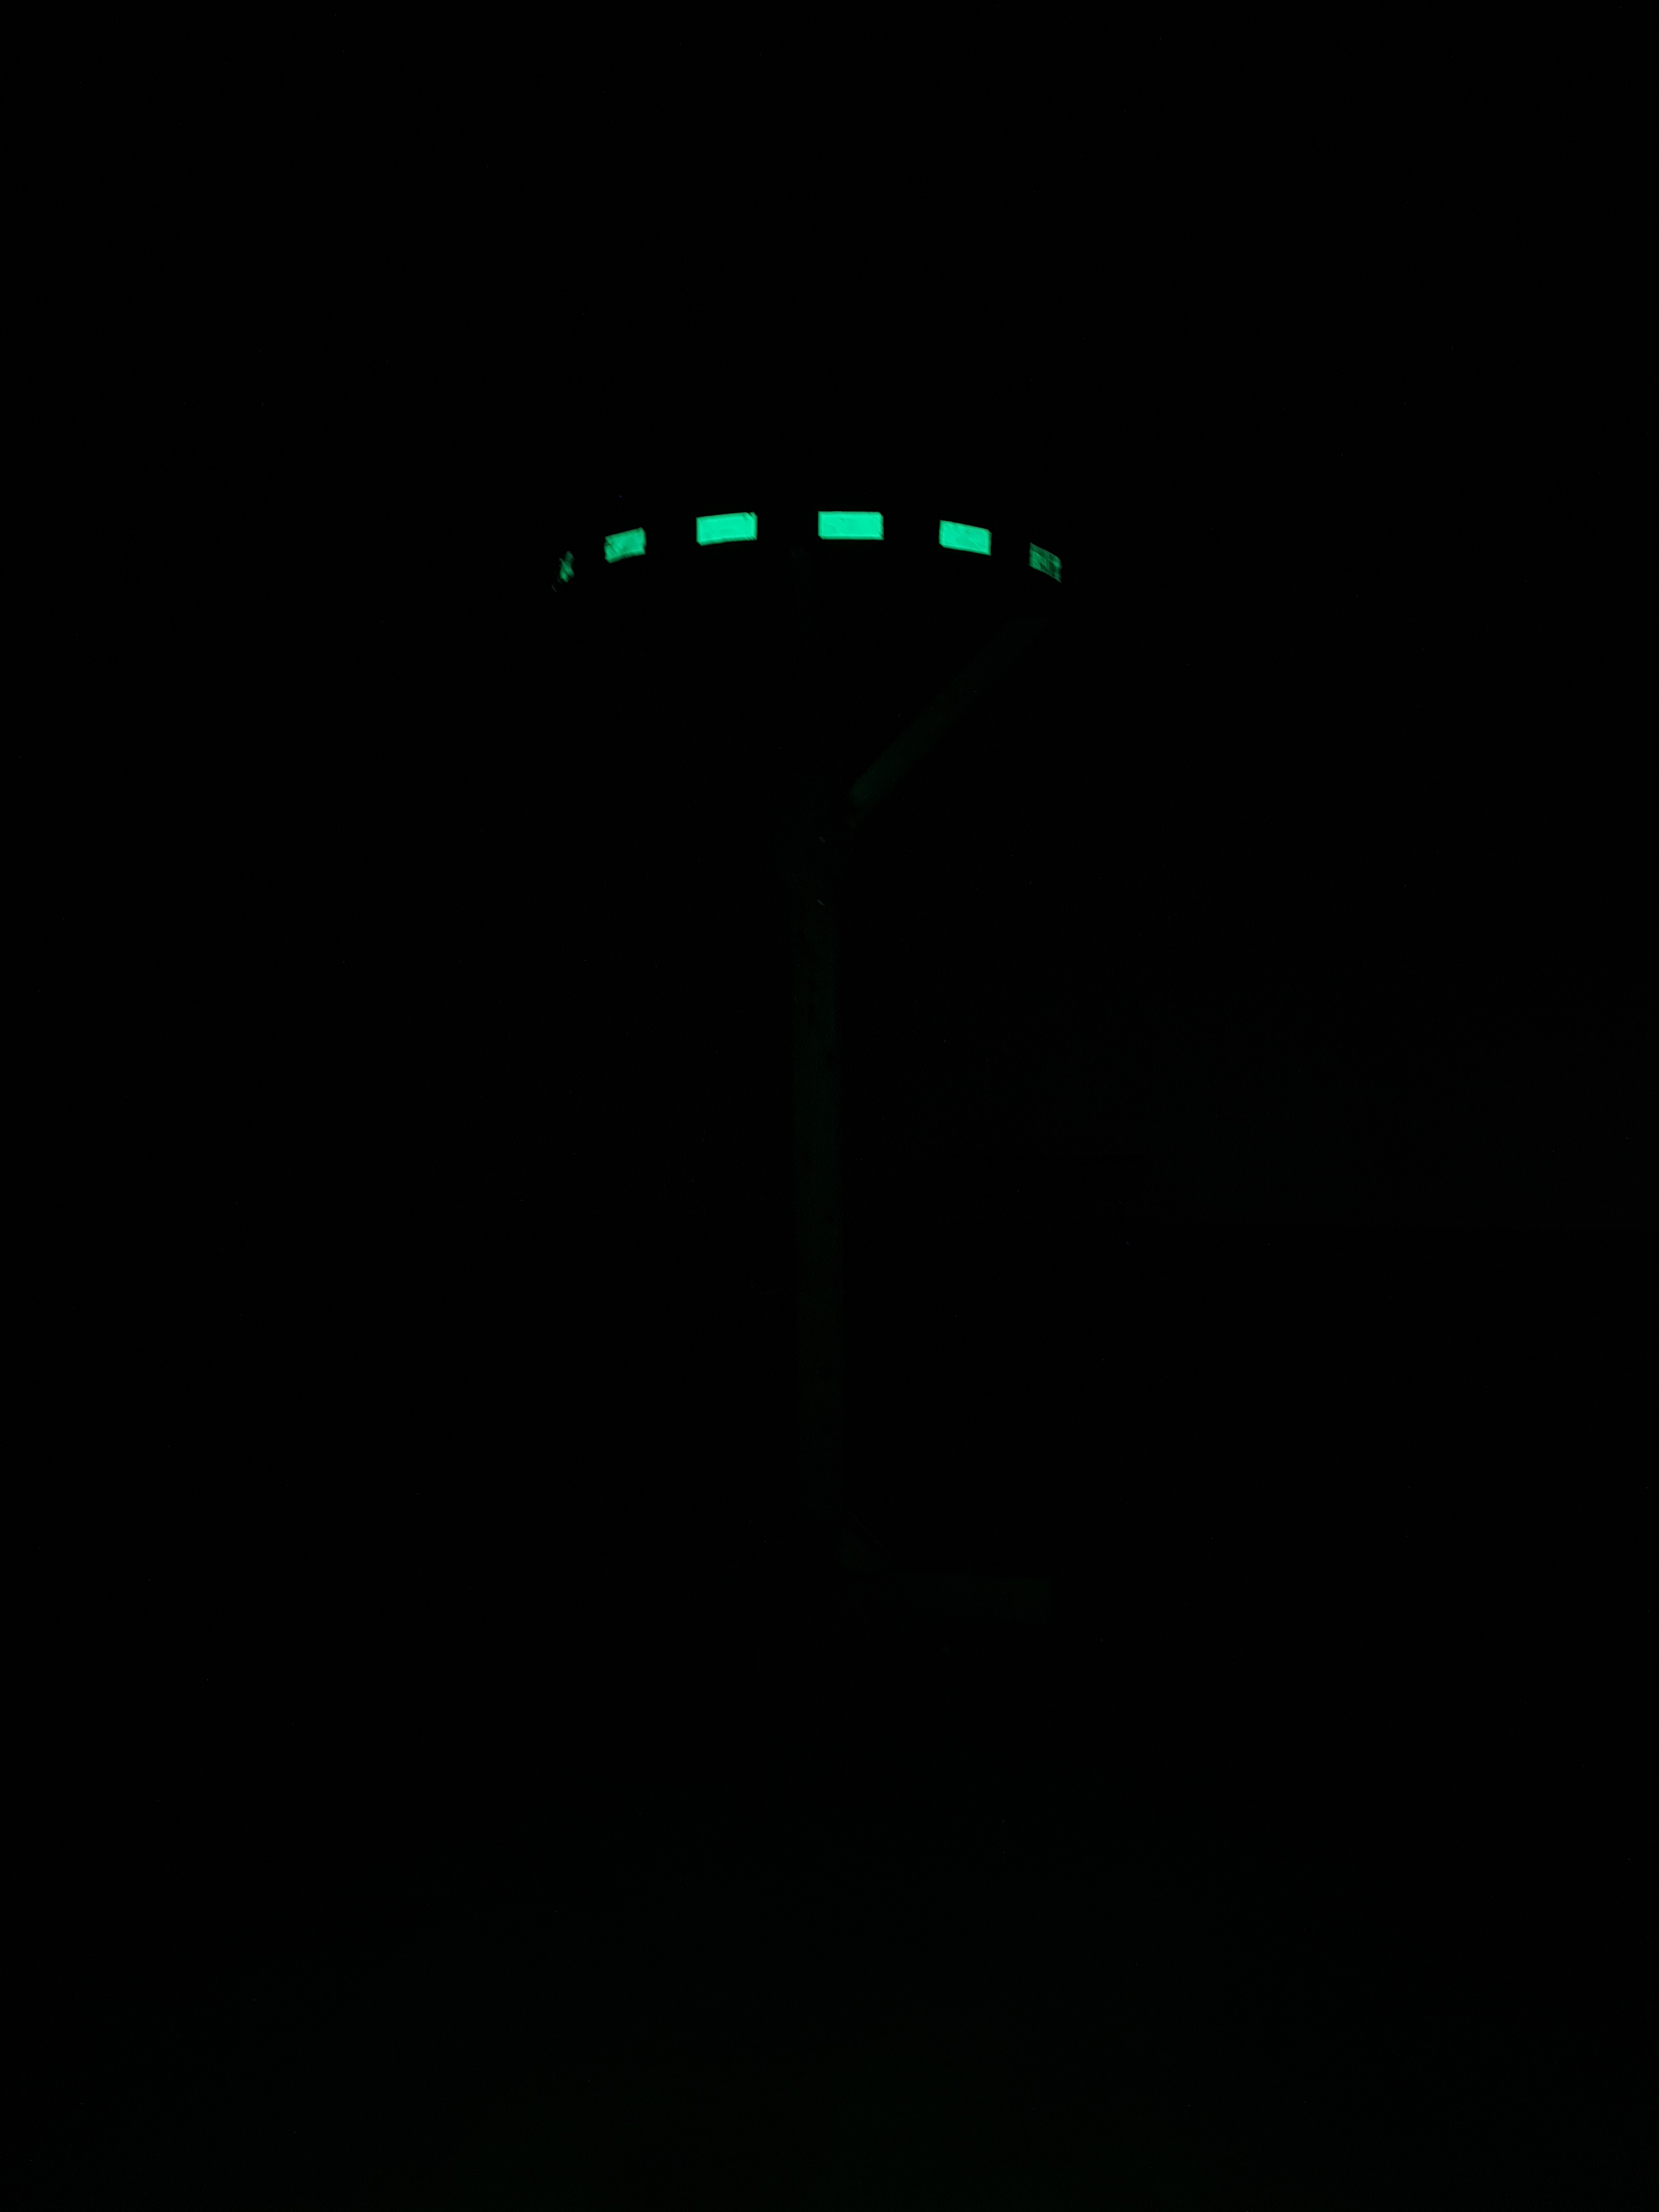hoop: (549, 502, 1072, 592)
